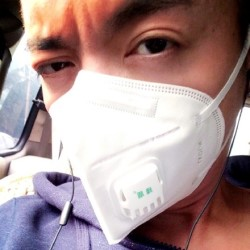mask: (45, 57, 229, 241)
